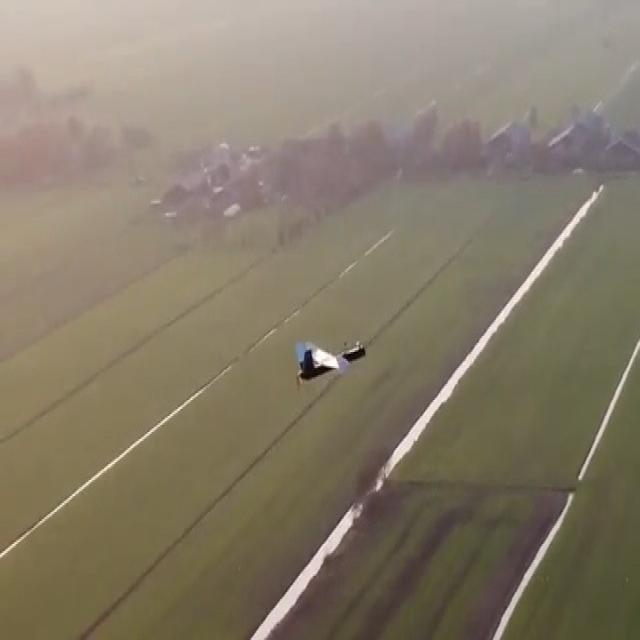drones: (290, 315, 372, 398)
